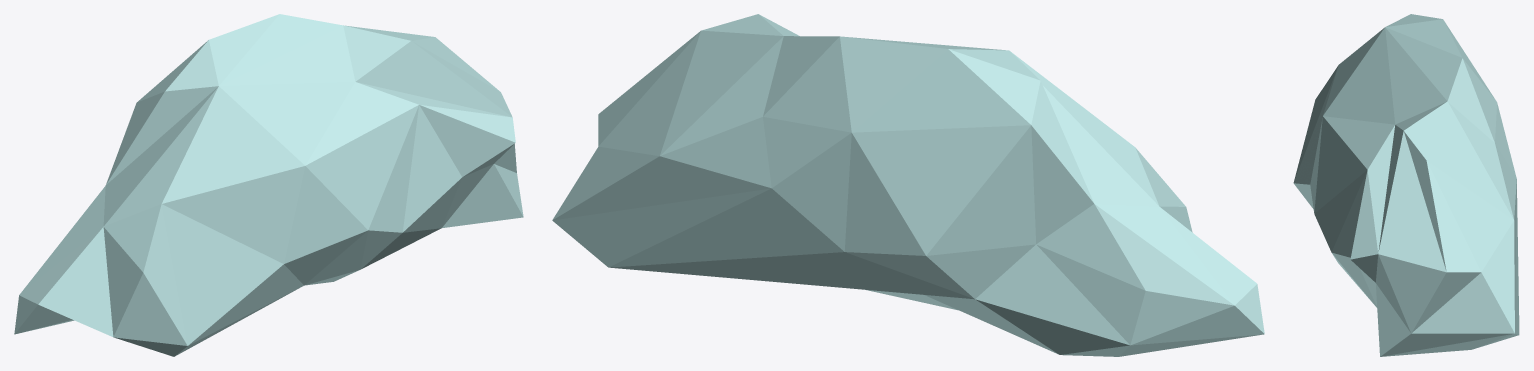
File: cloud-017.glb
3 views of the same model, side by side, from view 1: azimuth 30°, elevation 25°; view 2: azimuth 150°, elevation 25°; view 3: azimuth 270°, elevation 25° (orthographic). The views are drawn at different scales.
Visible parts, largest first — view 1: cloud 9_40; view 2: cloud 9_40; view 3: cloud 9_40.
Boxes of the visible parts, x1,y1,x2,y2 form: cloud 9_40: (14,14,523,356); cloud 9_40: (552,14,1264,356); cloud 9_40: (1293,14,1519,356).
Bounding box in the file's own units: 1.67 × 0.7197 × 0.6578.
